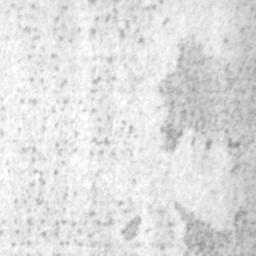Pitted surface: (0, 3, 256, 256), (148, 184, 256, 256), (88, 0, 164, 44), (53, 5, 81, 43), (243, 0, 256, 18), (0, 220, 6, 236), (210, 190, 218, 200), (162, 18, 170, 26)
